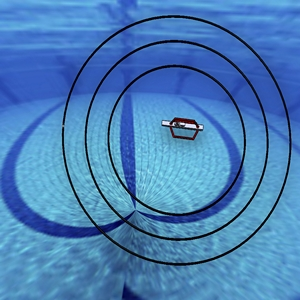circle: (51, 7, 300, 270)
submarine: (155, 106, 209, 156)
